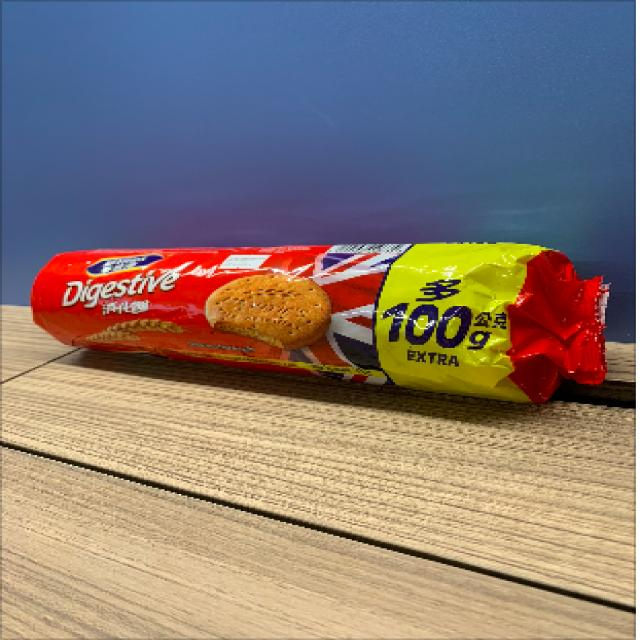object_name: (32, 243, 585, 389)
